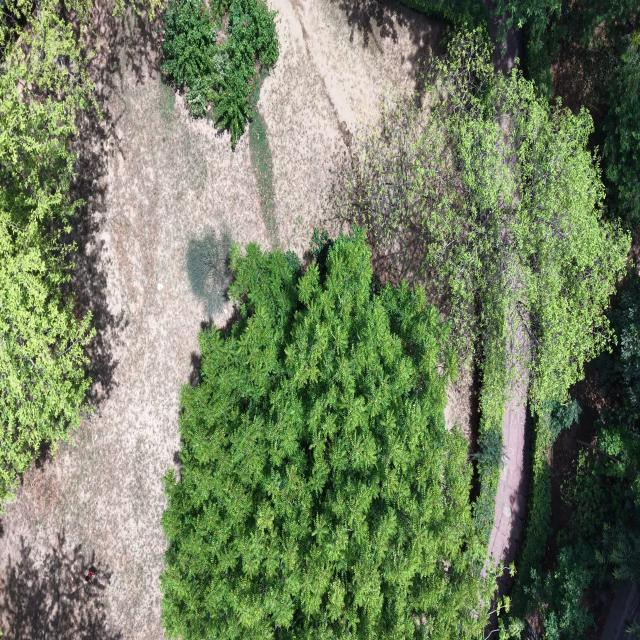DRY_AREA: (0, 0, 443, 639), (488, 323, 531, 597), (489, 322, 531, 597), (489, 381, 530, 565), (484, 0, 523, 74), (601, 583, 639, 639)
VEGETATION_TREE: (162, 0, 639, 639), (161, 228, 494, 639), (343, 30, 629, 412), (344, 31, 630, 403), (512, 240, 639, 639), (0, 0, 92, 503), (512, 277, 639, 639), (512, 350, 638, 638), (491, 0, 639, 228), (513, 369, 638, 638), (497, 0, 639, 228), (511, 448, 639, 639), (511, 401, 594, 639), (582, 277, 639, 582), (162, 0, 278, 147), (496, 0, 637, 96), (511, 414, 552, 617), (598, 277, 639, 476), (474, 307, 507, 544), (603, 29, 639, 228), (526, 544, 600, 639), (249, 70, 277, 245), (186, 229, 231, 318), (495, 0, 561, 56), (597, 500, 639, 583), (402, 0, 489, 28), (130, 0, 164, 21)
